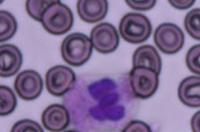N: (62, 71, 138, 132)
